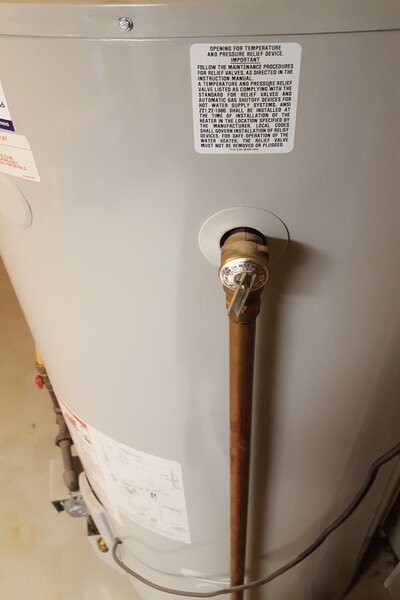valve: (217, 228, 272, 345)
